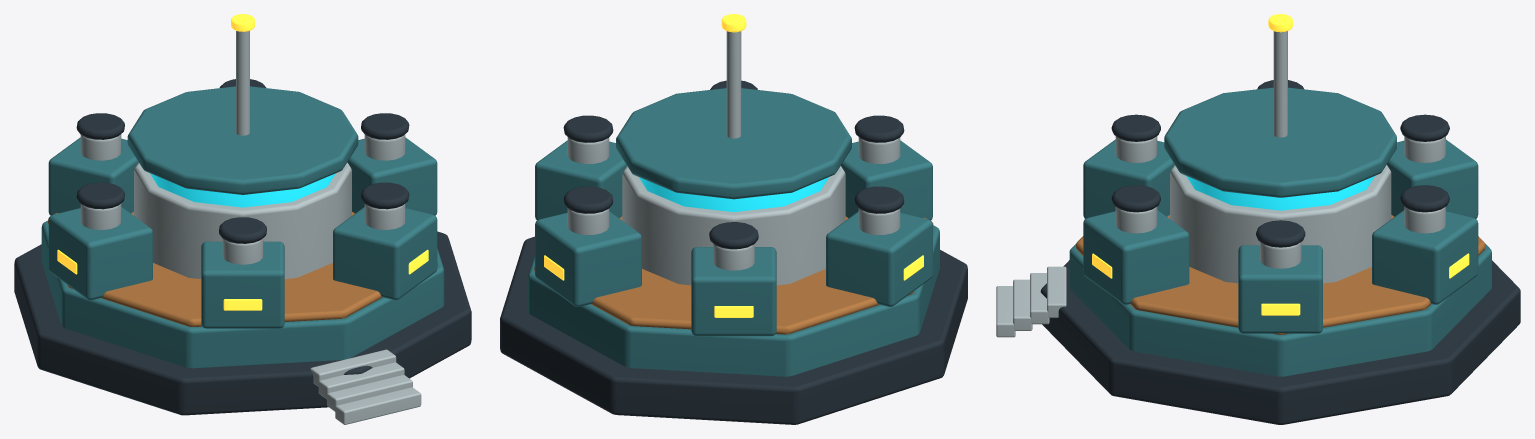
File: cpu.glb
3 views of the same model, side by side, from view 1: azimuth 30°, elevation 25°; view 2: azimuth 150°, elevation 25°; view 3: azimuth 270°, elevation 25° (orthographic). The views are drawn at different scales.
Parts seen in each view (by area): view 1: Octagonal foundation, Crown roof, Teal service deck, Central control drum, Copper deck rim, Peripheral service module.005, Peripheral service module.003, Peripheral service module.004, Peripheral service module, Peripheral service module.002, Command glass crown, Access step.003 (+15 smaller); view 2: Octagonal foundation, Crown roof, Teal service deck, Central control drum, Copper deck rim, Peripheral service module.001, Peripheral service module.003, Peripheral service module.002, Peripheral service module, Peripheral service module.004, Command glass crown, Antenna mast (+11 smaller); view 3: Octagonal foundation, Crown roof, Teal service deck, Central control drum, Copper deck rim, Peripheral service module.005, Peripheral service module.001, Peripheral service module, Peripheral service module.002, Peripheral service module.004, Command glass crown, Antenna mast (+15 smaller).
Boxes of the visible parts, <box> form: Octagonal foundation: <box>14,231,471,415</box>; Crown roof: <box>127,86,358,194</box>; Teal service deck: <box>41,220,444,368</box>; Central control drum: <box>134,162,351,278</box>; Copper deck rim: <box>48,212,437,326</box>; Peripheral service module.005: <box>333,207,437,300</box>; Peripheral service module.003: <box>48,207,152,300</box>; Peripheral service module.004: <box>201,241,284,328</box>; Peripheral service module: <box>347,137,437,215</box>; Peripheral service module.002: <box>48,137,138,215</box>; Command glass crown: <box>150,173,335,207</box>; Access step.003: <box>335,387,421,424</box>; Octagonal foundation: <box>500,236,967,424</box>; Crown roof: <box>616,88,851,199</box>; Teal service deck: <box>528,225,939,376</box>; Central control drum: <box>622,166,845,285</box>; Copper deck rim: <box>534,216,933,334</box>; Peripheral service module.001: <box>535,211,641,306</box>; Peripheral service module.003: <box>826,211,932,306</box>; Peripheral service module.002: <box>691,247,776,336</box>; Peripheral service module: <box>535,140,626,220</box>; Peripheral service module.004: <box>841,140,932,220</box>; Command glass crown: <box>639,177,828,211</box>; Antenna mast: <box>726,31,741,138</box>; Octagonal foundation: <box>1040,260,1520,424</box>; Crown roof: <box>1164,87,1396,197</box>; Teal service deck: <box>1069,243,1491,376</box>; Central control drum: <box>1170,165,1391,283</box>; Copper deck rim: <box>1076,215,1485,334</box>; Peripheral service module.005: <box>1083,210,1189,304</box>; Peripheral service module.001: <box>1372,210,1478,304</box>; Peripheral service module: <box>1238,245,1322,333</box>; Peripheral service module.002: <box>1387,139,1478,218</box>; Peripheral service module.004: <box>1083,139,1174,218</box>; Command glass crown: <box>1186,176,1374,210</box>; Antenna mast: <box>1273,31,1287,137</box>.
Size of the model in its own units: 3.68 by 2.6 by 4.03.
